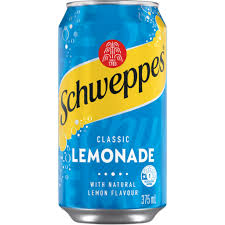can: (42, 1, 175, 225)
